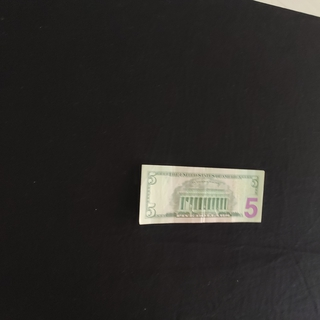5USDBack: (138, 163, 265, 225)
